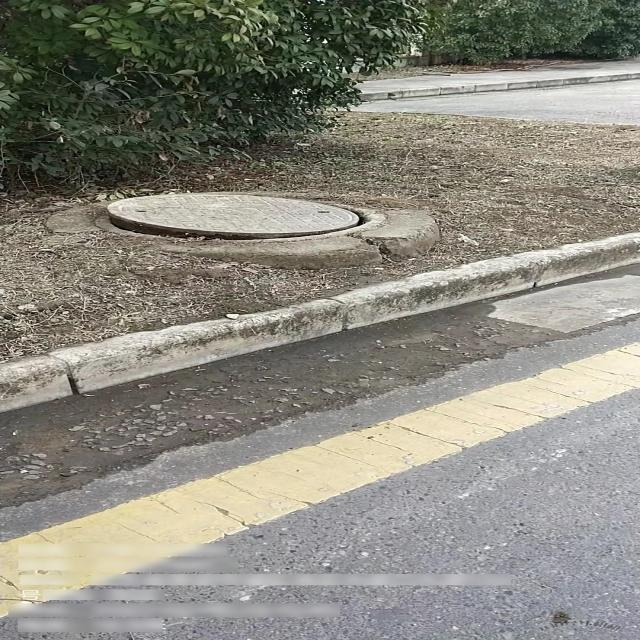Faulty: (82, 192, 382, 244)
